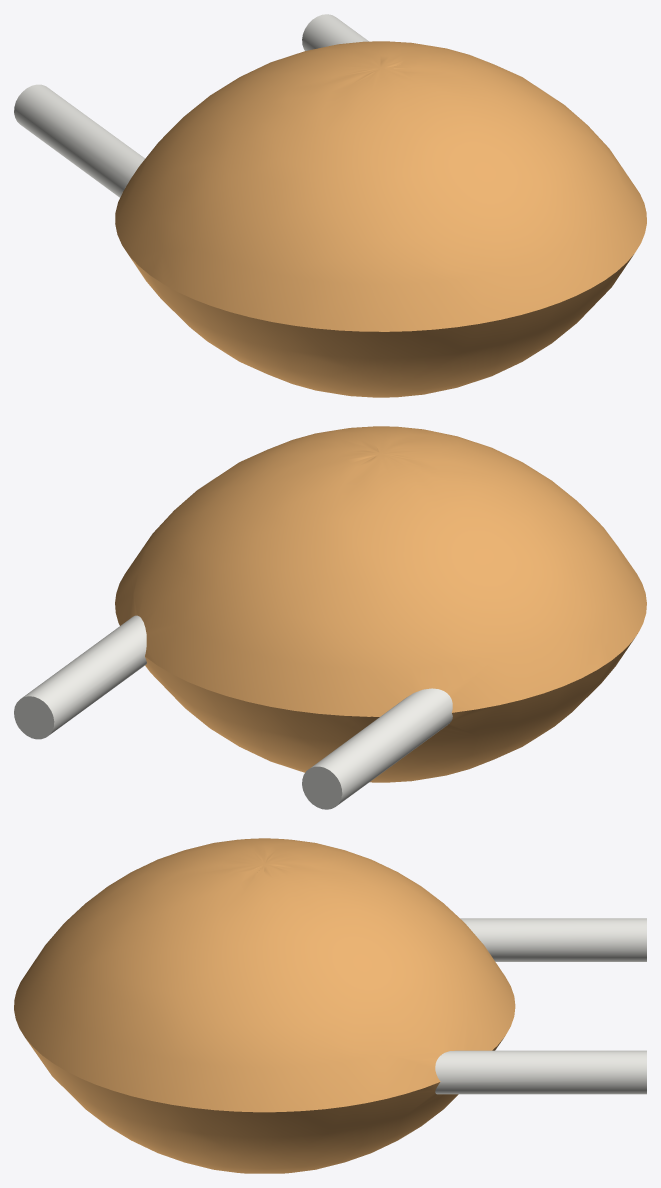
Rendered from C_Disc_D8.0mm_W5.0mm_P5.00mm.glb.
3 renders of one model, top to bottom at view 1: azimuth 30°, elevation 25°; view 2: azimuth 150°, elevation 25°; view 3: azimuth 270°, elevation 25°, orthographic. The views are drawn at different scales.
Parts seen in each view (by area): view 1: Shape_IndexedFaceSet.002, Shape_IndexedFaceSet.003, Shape_IndexedFaceSet.004, Shape_IndexedFaceSet.001; view 2: Shape_IndexedFaceSet.002, Shape_IndexedFaceSet.003, Shape_IndexedFaceSet.004, Shape_IndexedFaceSet.001, Shape_IndexedFaceSet.005, Shape_IndexedFaceSet; view 3: Shape_IndexedFaceSet.002, Shape_IndexedFaceSet.003, Shape_IndexedFaceSet.001, Shape_IndexedFaceSet.004.
Boxes of the visible parts, x1=… form: Shape_IndexedFaceSet.002: x1=115, y1=41, x2=646, y2=331; Shape_IndexedFaceSet.003: x1=129, y1=254, x2=633, y2=397; Shape_IndexedFaceSet.004: x1=14, y1=84, x2=144, y2=197; Shape_IndexedFaceSet.001: x1=302, y1=14, x2=368, y2=50; Shape_IndexedFaceSet.002: x1=115, y1=426, x2=646, y2=716; Shape_IndexedFaceSet.003: x1=145, y1=637, x2=635, y2=782; Shape_IndexedFaceSet.004: x1=311, y1=688, x2=452, y2=805; Shape_IndexedFaceSet.001: x1=21, y1=615, x2=146, y2=734; Shape_IndexedFaceSet.005: x1=302, y1=766, x2=342, y2=809; Shape_IndexedFaceSet: x1=14, y1=696, x2=54, y2=739; Shape_IndexedFaceSet.002: x1=14, y1=838, x2=515, y2=1112; Shape_IndexedFaceSet.003: x1=26, y1=1038, x2=503, y2=1173; Shape_IndexedFaceSet.001: x1=435, y1=1050, x2=646, y2=1094; Shape_IndexedFaceSet.004: x1=460, y1=918, x2=646, y2=961.
Size of the model in its own units: 3.15 by 1.97 by 3.98.
